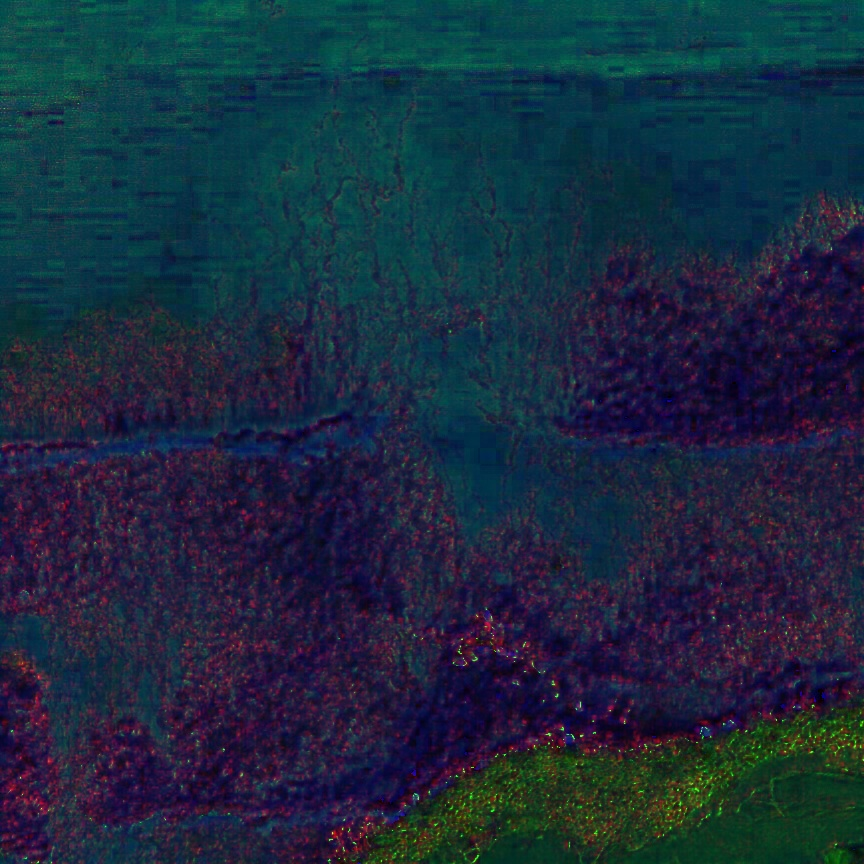rip_current: (246, 96, 676, 615)
